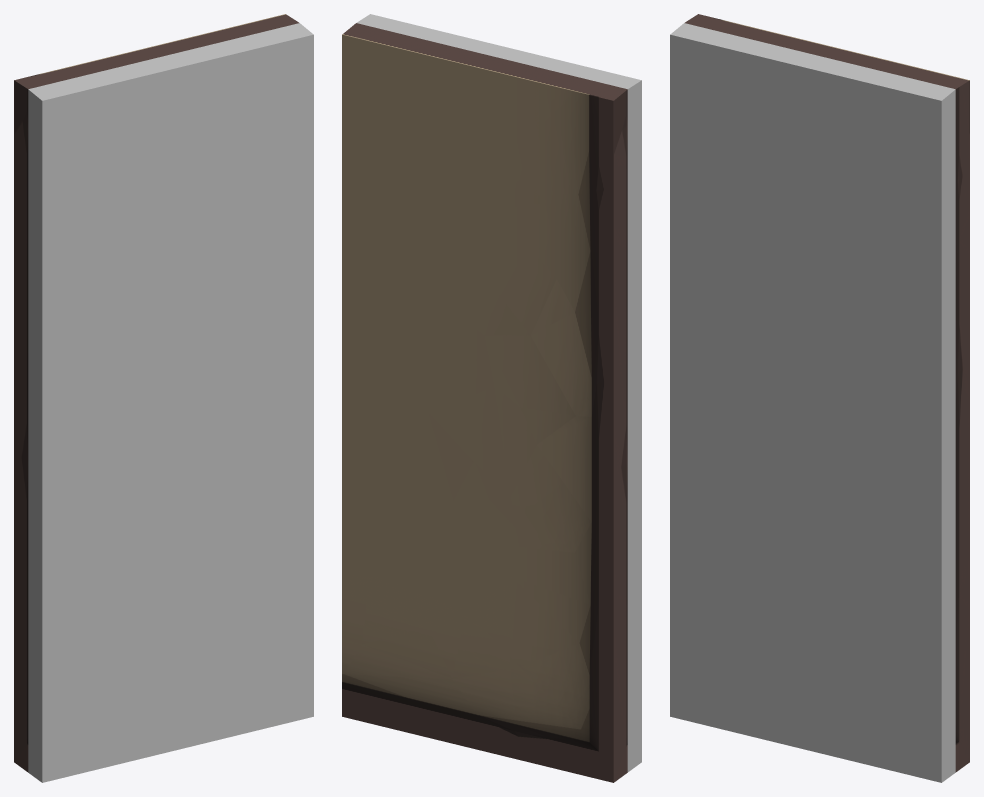
The model's file is SM_Bld_Wall_Half_02.fbx.
3 views of the same model, side by side, from view 1: azimuth 30°, elevation 25°; view 2: azimuth 150°, elevation 25°; view 3: azimuth 330°, elevation 25° (orthographic).
Parts seen in each view (by area): view 1: SM_Bld_Wall_Half_02; view 2: SM_Bld_Wall_Half_02; view 3: SM_Bld_Wall_Half_02.
Boxes of the visible parts, x1,y1,x2,y2 form: SM_Bld_Wall_Half_02: (14,14,313,782); SM_Bld_Wall_Half_02: (342,14,641,782); SM_Bld_Wall_Half_02: (670,14,969,782).
Size of the model in its own units: 125 by 301 by 22.5.
